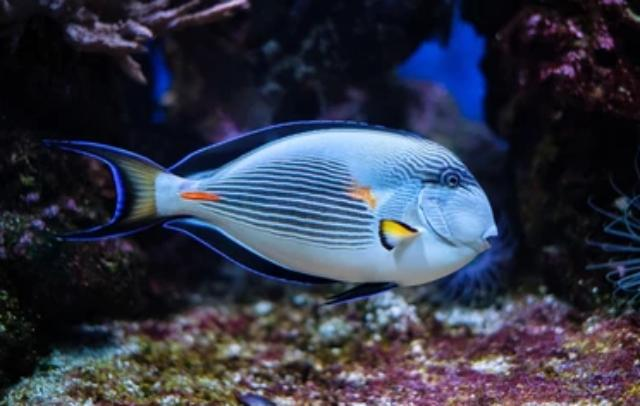Mulut: (466, 210, 520, 271)
Sirip Anal: (155, 208, 339, 292)
Sirip Dada: (358, 209, 436, 261)
Sirip Ekor: (32, 131, 168, 253)
Sirip Perut: (308, 276, 406, 318)
Sirip Punggung: (166, 113, 390, 183)
